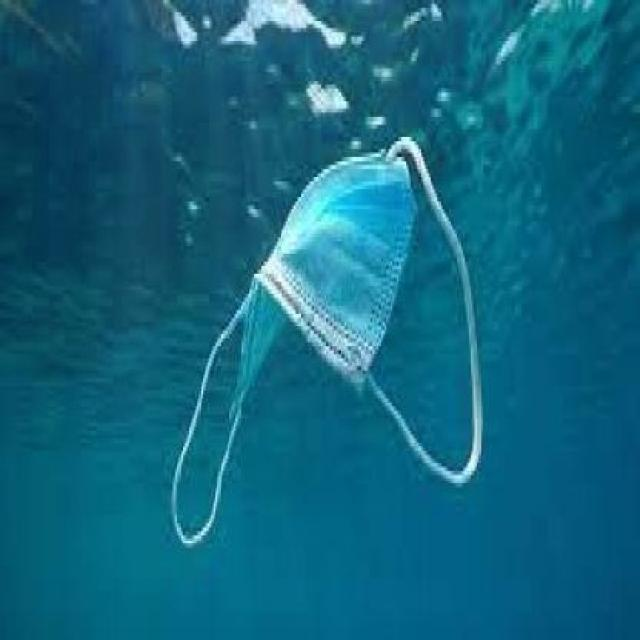Mask: (165, 125, 483, 560)
